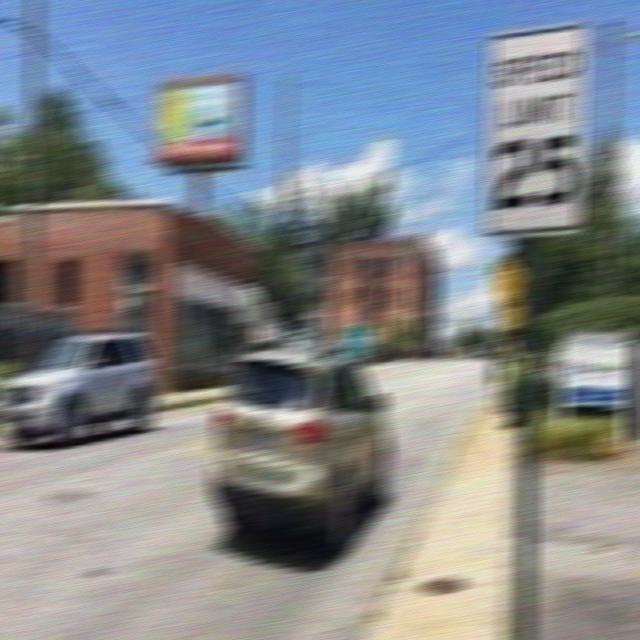speedLimit25: (487, 29, 588, 236)
